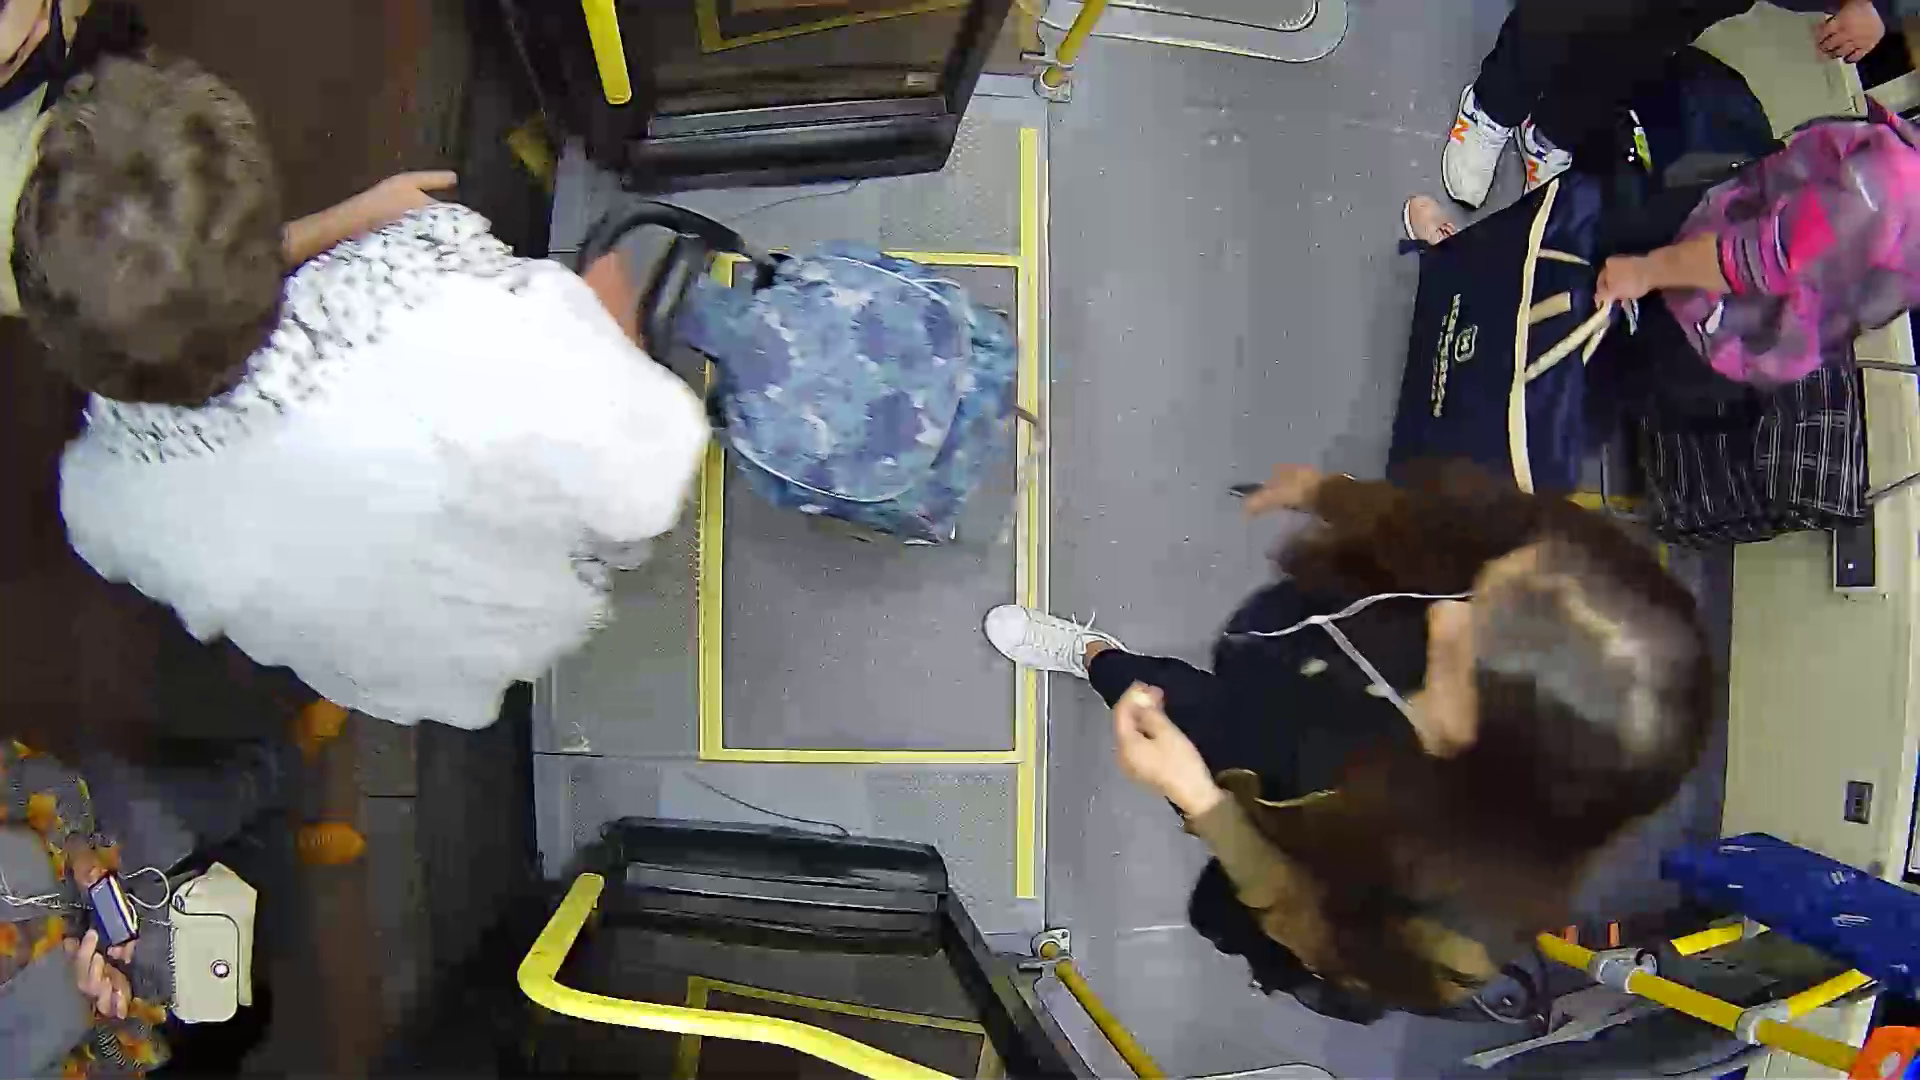person: (37, 86, 770, 727), (1043, 437, 1721, 1010)
